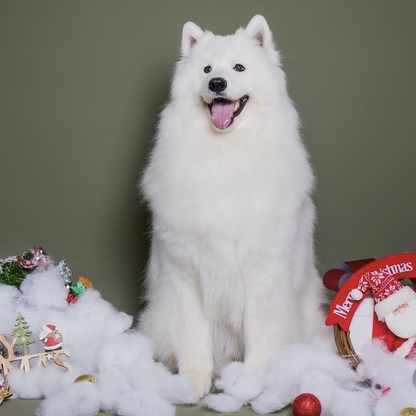samoyed: (132, 9, 371, 416)
